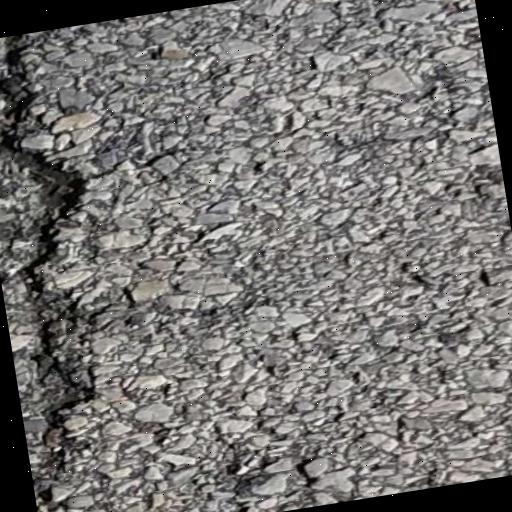spalling: (0, 37, 108, 512)
